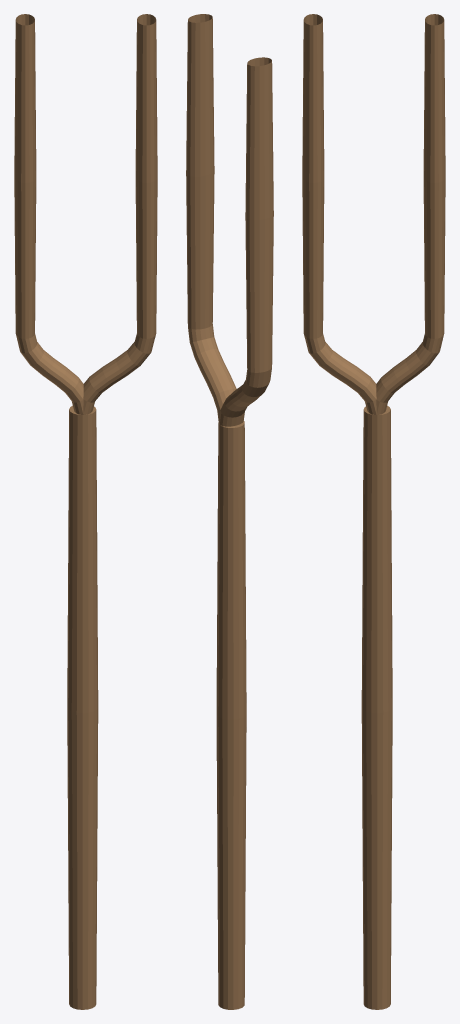
File: Rete_Stock.fbx
3 renders of one model, left to right at view 1: azimuth 90°, elevation 25°; view 2: azimuth 210°, elevation 25°; view 3: azimuth 270°, elevation 25°, orthographic. The views are drawn at different scales.
Parts seen in each view (by area): view 1: Tridens Monocolor.001; view 2: Tridens Monocolor.001; view 3: Tridens Monocolor.001.
Boxes of the visible parts, box(x1,y1,x2,y2) form: Tridens Monocolor.001: box(14, 14, 157, 1009); Tridens Monocolor.001: box(186, 14, 273, 1009); Tridens Monocolor.001: box(302, 14, 445, 1009).
Bounding box in the file's own units: 3.16 × 111 × 14.62.
